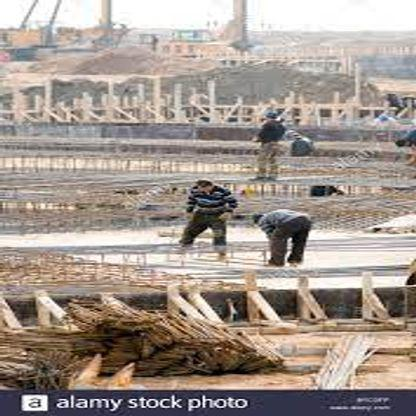helmet: (262, 110, 278, 117)
without_helmet: (195, 179, 211, 189)
without_vest: (189, 190, 226, 212), (257, 207, 291, 227), (262, 123, 285, 139)
